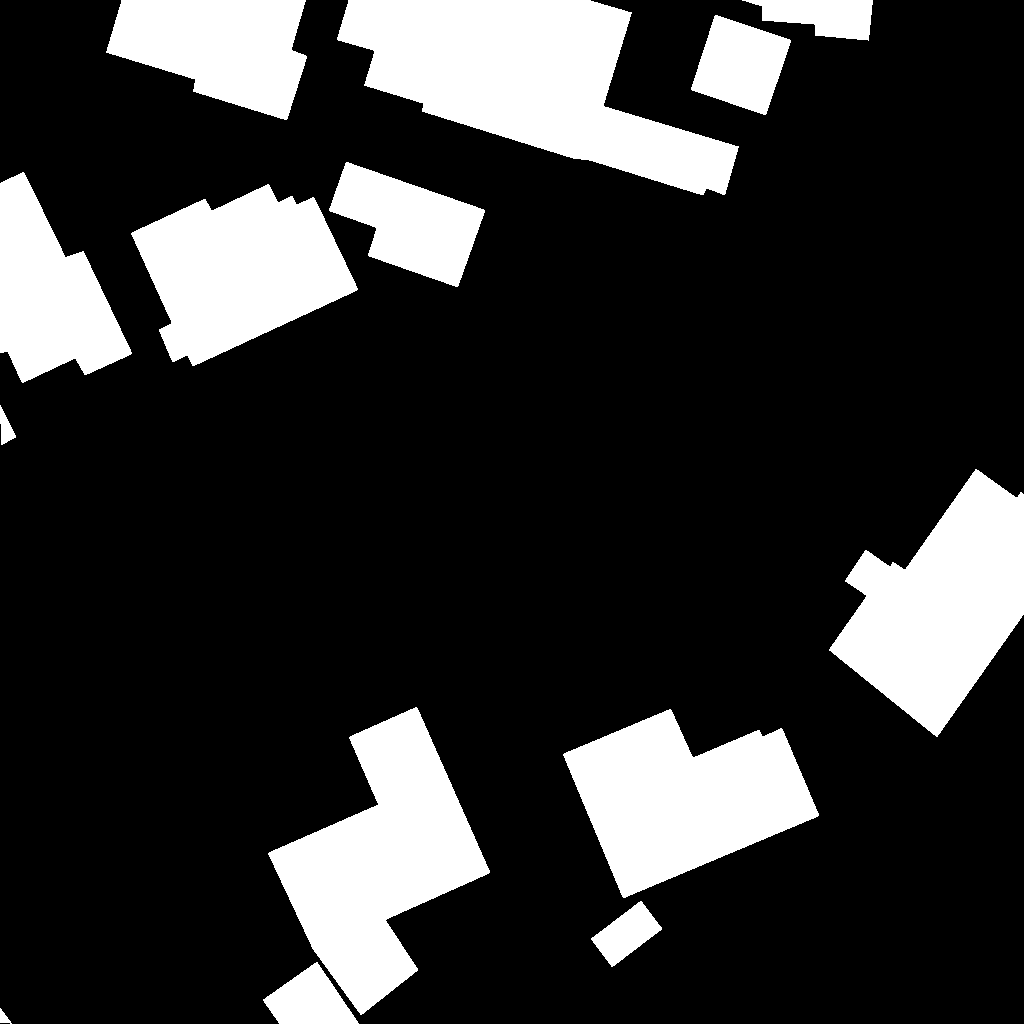building: (337, 0, 740, 196), (268, 707, 491, 1016), (829, 469, 1024, 738), (563, 709, 820, 899), (131, 184, 359, 367), (0, 172, 133, 446), (106, 0, 308, 121), (329, 162, 486, 288), (691, 15, 792, 116), (263, 962, 360, 1024), (741, 0, 874, 41), (591, 901, 663, 968), (0, 1008, 13, 1024)
